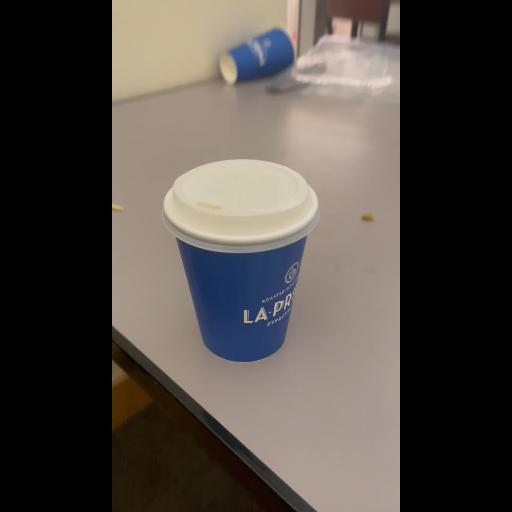lp_paper_cup: (164, 160, 320, 360), (220, 27, 296, 85)
